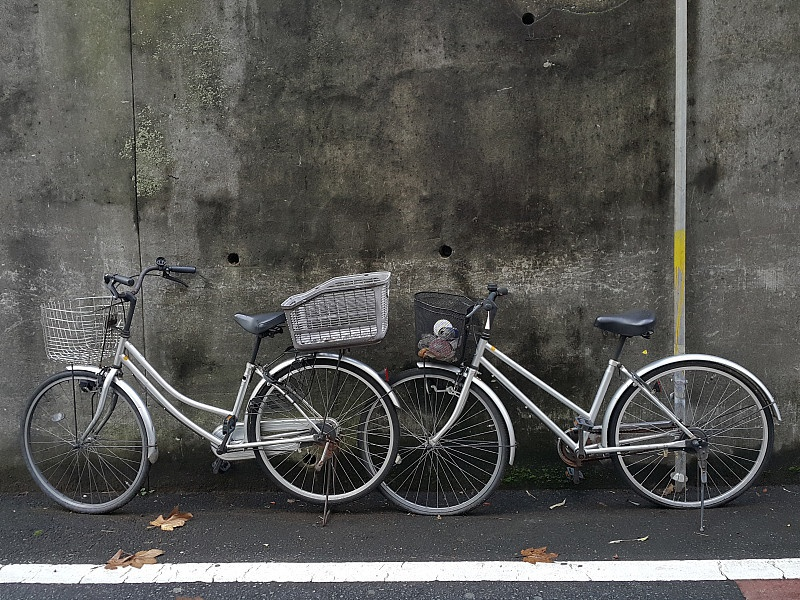non-vehicle: (14, 260, 390, 522), (385, 286, 772, 520)
